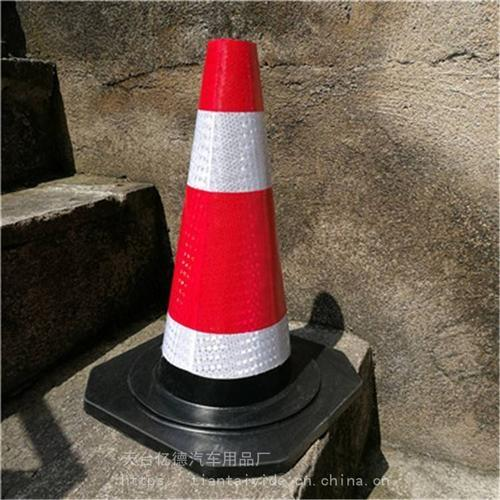cone_barrel: (137, 40, 307, 442)
